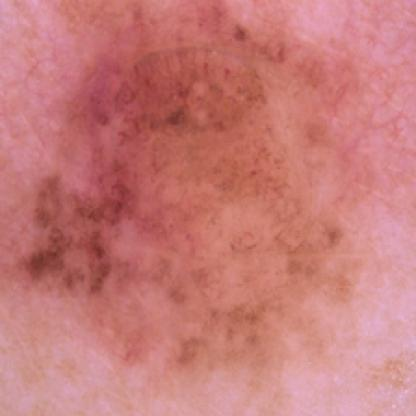benign: (32, 11, 334, 307)
